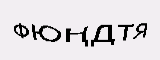Д: (93, 20, 115, 50)
Т: (114, 21, 136, 43)
Ф: (13, 18, 30, 38)
Ю: (30, 19, 61, 44)
Я: (134, 20, 150, 40)
Ң: (64, 24, 91, 48)
